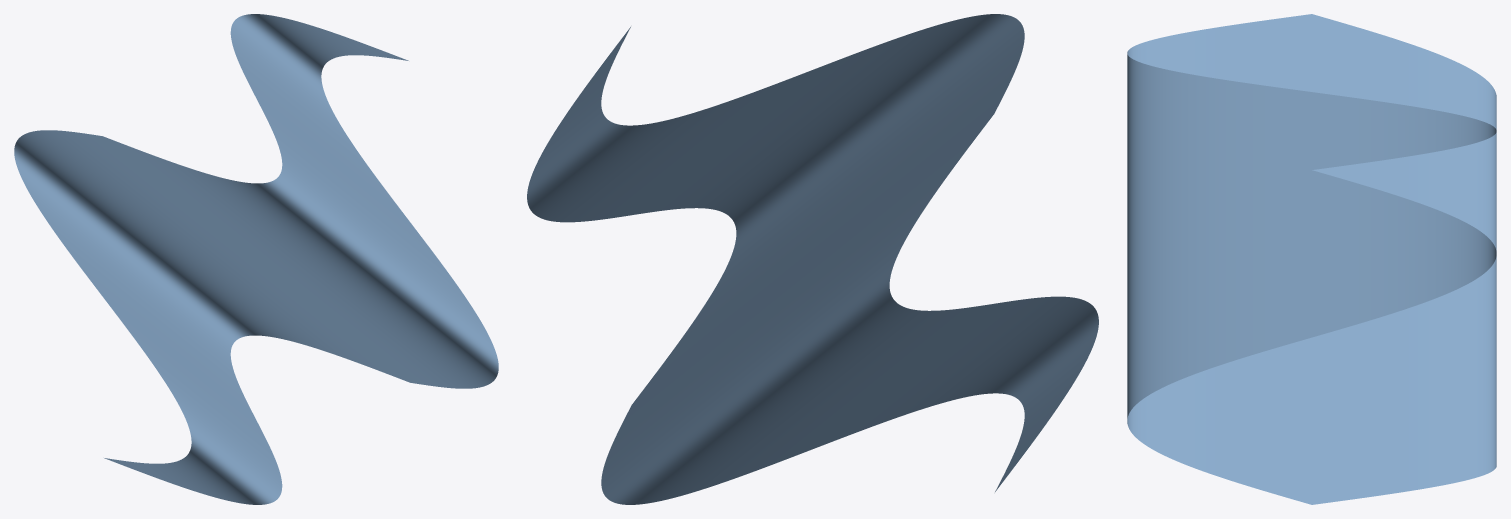
Rendered from gyroid.obj.
3 renders of one model, left to right at view 1: azimuth 30°, elevation 25°; view 2: azimuth 150°, elevation 25°; view 3: azimuth 270°, elevation 25°, orthographic. The views are drawn at different scales.
Parts seen in each view (by area): view 1: gyroid; view 2: gyroid; view 3: gyroid.
Part boxes in pixels (bbox=[...]): gyroid: bbox=[14, 14, 498, 504]; gyroid: bbox=[527, 14, 1098, 504]; gyroid: bbox=[1127, 14, 1496, 504].
Bounding box in the file's own units: 2 × 2 × 2.
